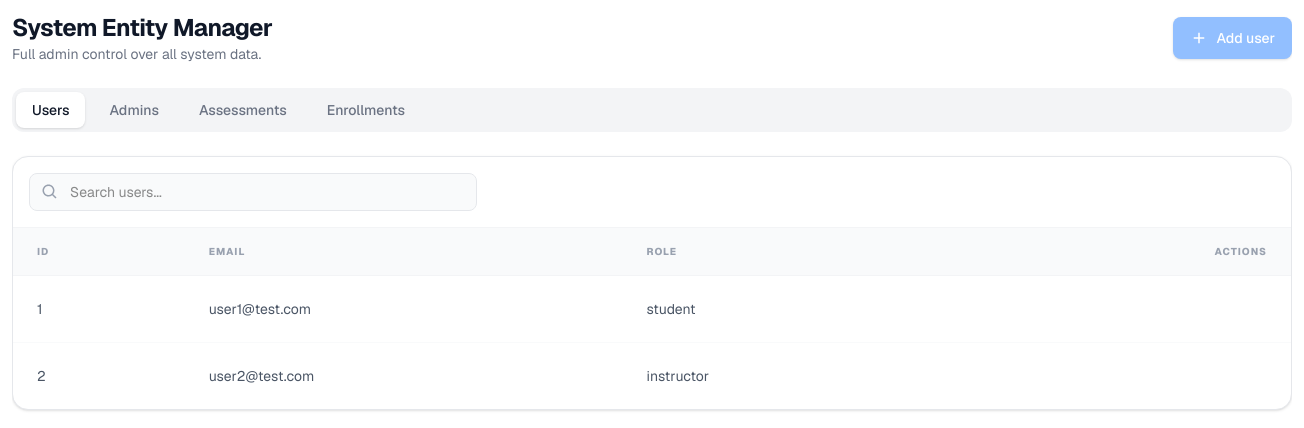
EntityManagementPage component › filters data based on search query
Expected: the text "user1@test.com" is shown, [185, 276, 622, 342]
Type "user2" into the field with placeholder "Search users...". click: (253, 192)
box: [29, 173, 477, 211]
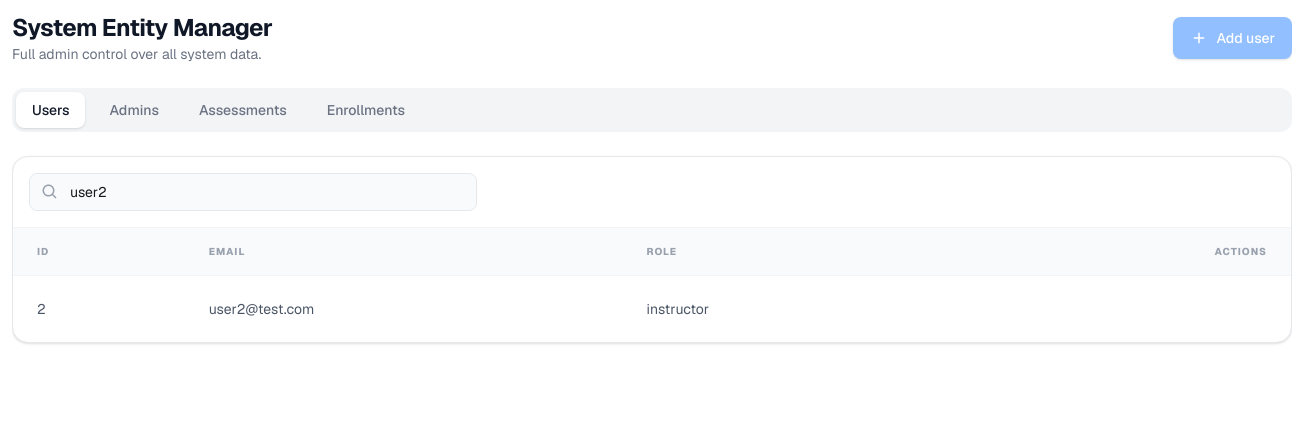
Now the text "user1@test.com" is gone
Now the text "user2@test.com" is shown, box [185, 276, 622, 342]
